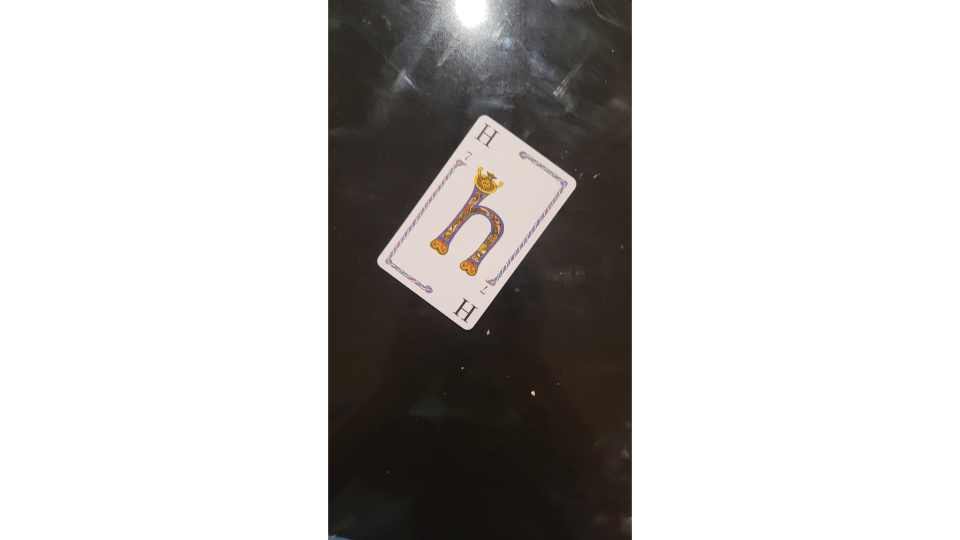H: (372, 111, 579, 334)
